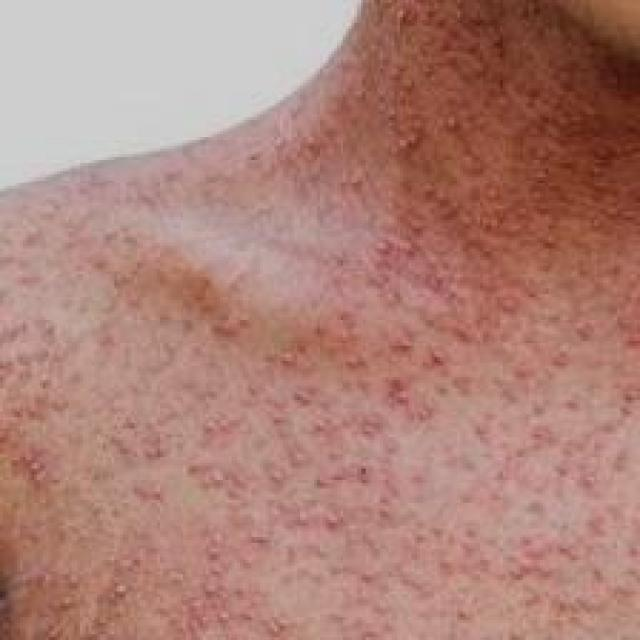others: (0, 3, 625, 640)
